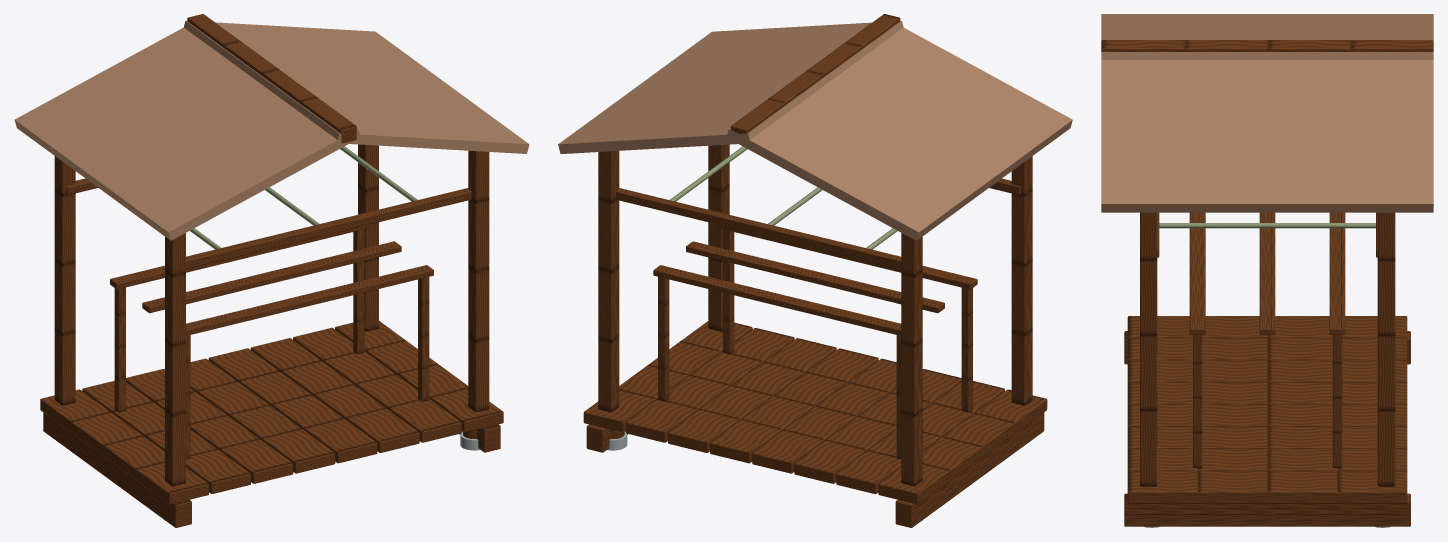
The model's file is flooded-and-coastal-survival-drying-shelter-6927a26f__20055.glb.
3 renders of one model, left to right at view 1: azimuth 30°, elevation 25°; view 2: azimuth 150°, elevation 25°; view 3: azimuth 270°, elevation 25°, orthographic. The views are drawn at different scales.
Parts seen in each view (by area): view 1: drying-shelter; view 2: drying-shelter; view 3: drying-shelter.
Part boxes in pixels (x1,y1,x2,y2): drying-shelter: [14, 14, 529, 527]; drying-shelter: [558, 14, 1072, 527]; drying-shelter: [1101, 14, 1433, 527].
Size of the model in its own units: 2.57 by 2.52 by 1.9.
Materials: 4 (1 with a texture image).
